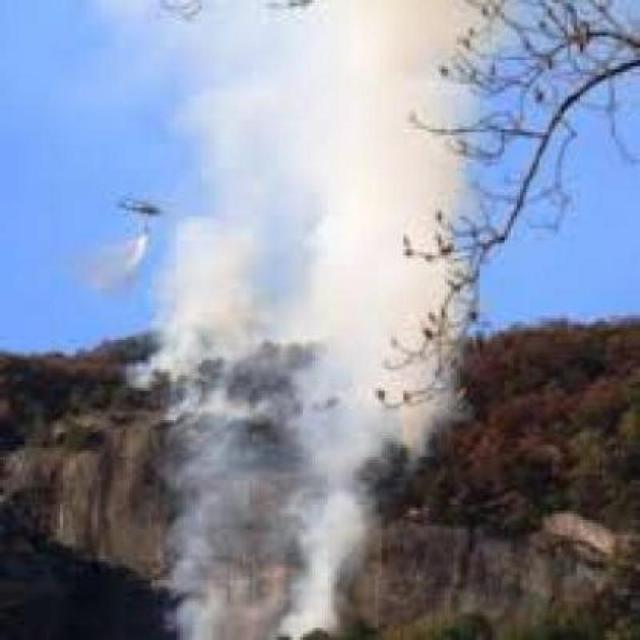Smoke: (156, 52, 472, 622)
